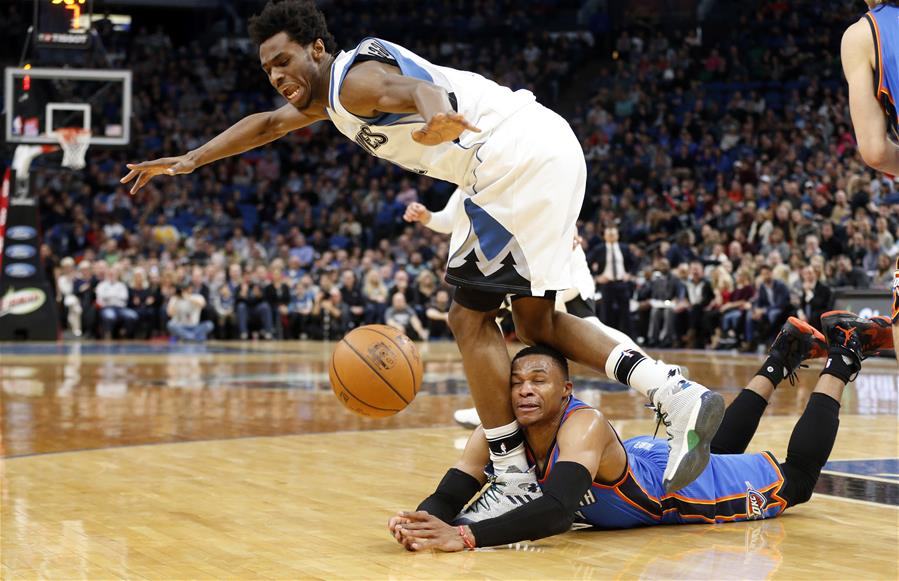10+: (1, 1, 898, 564)
down: (378, 295, 899, 564)
